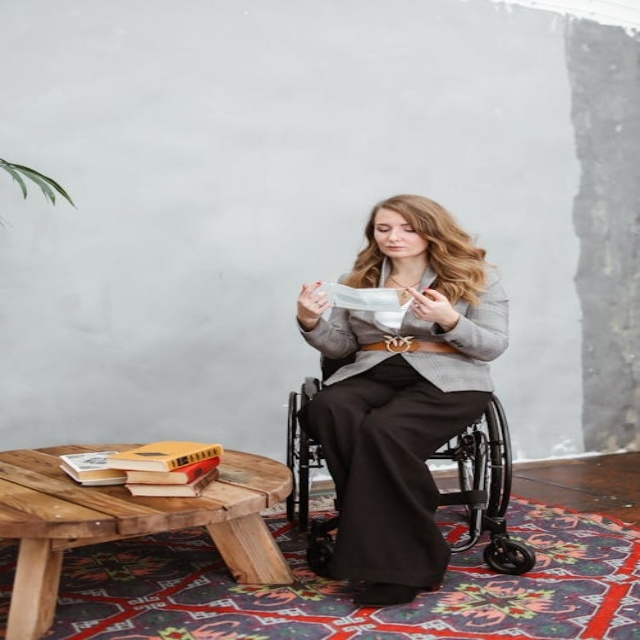Sin_gafas: (371, 220, 419, 236)
Sin_guantes: (401, 285, 457, 327), (292, 277, 334, 317)
Sin_mascara: (379, 242, 412, 258)
